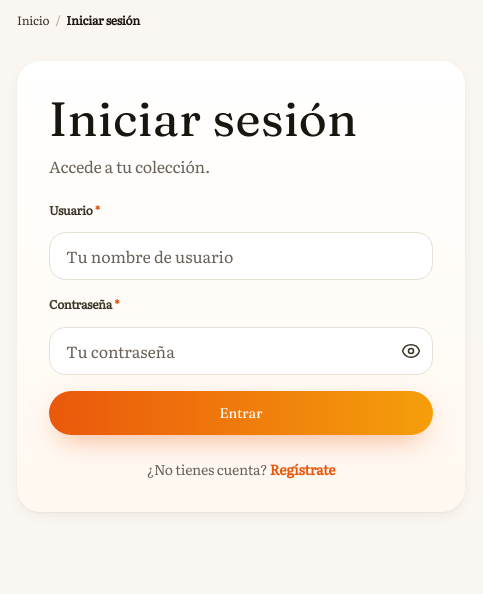
Scenario: LoginPage › muestra error con credenciales inválidas
Step 1. Type "nadie" into the field labelled "Usuario *" → (241, 256), box x1=49 y1=232 x2=433 y2=280
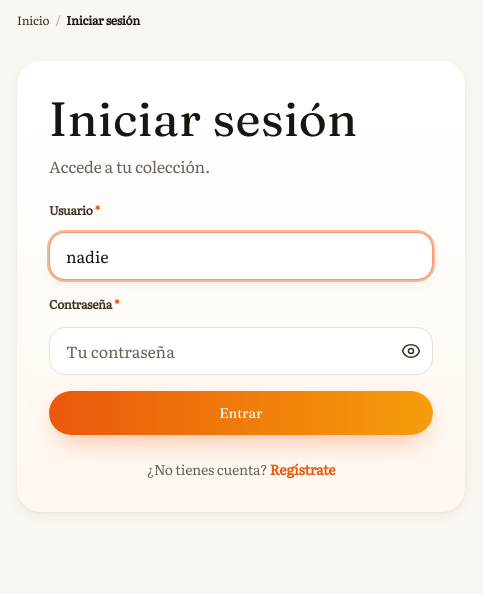
Step 2. Type "wrongpass" into the password field labelled "Contraseña *" → (241, 351), box x1=49 y1=327 x2=433 y2=375
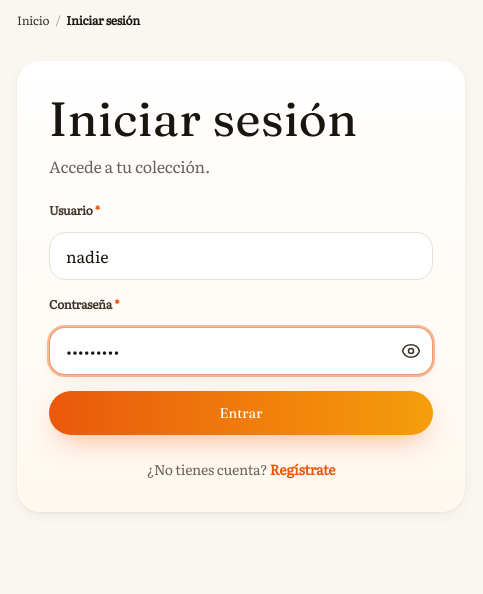
Step 3. Click the button "Entrar" → (241, 413), box x1=49 y1=391 x2=433 y2=435
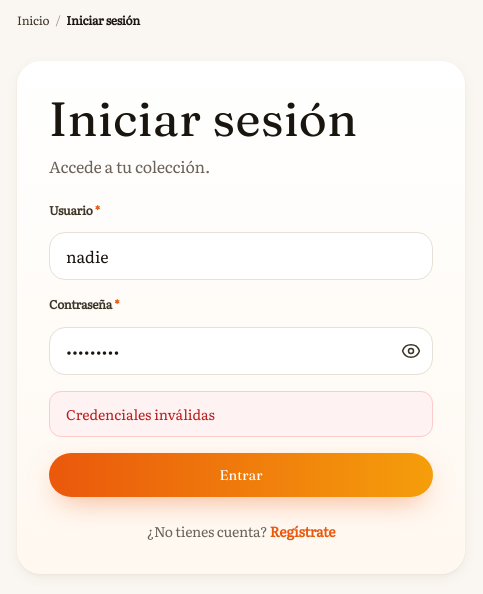
expect the message reads "Credenciales inválidas": met, box x1=66 y1=404 x2=215 y2=424
